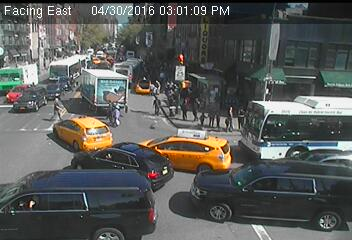neg: (239, 173, 272, 217), (300, 71, 328, 110), (178, 123, 205, 159), (18, 182, 45, 217), (7, 44, 27, 71), (169, 49, 189, 75), (87, 39, 106, 64), (181, 181, 199, 205), (106, 154, 123, 176), (257, 61, 273, 82)
pos: (106, 100, 123, 122), (149, 95, 165, 116), (50, 97, 66, 118), (225, 105, 240, 125), (207, 109, 219, 124), (217, 112, 226, 125), (200, 112, 209, 124)
